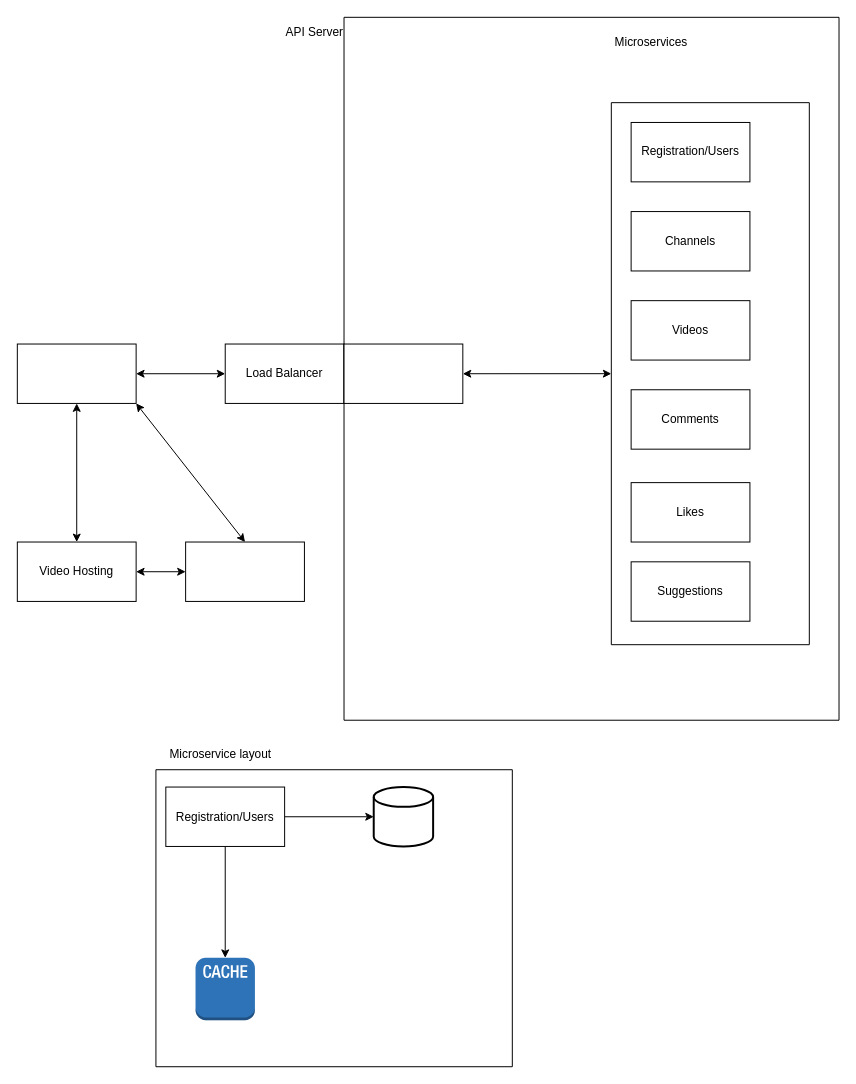
Image size: 856x1084. Some labels were removed from this diagram. Here are the shapes that lost their labels. From the top down, the centre of each, then its label:
At pixel 76 373: "Client".
At pixel 403 373: "API Gateway".
At pixel 244 571: "CDN".
At pixel 403 816: "Database".
